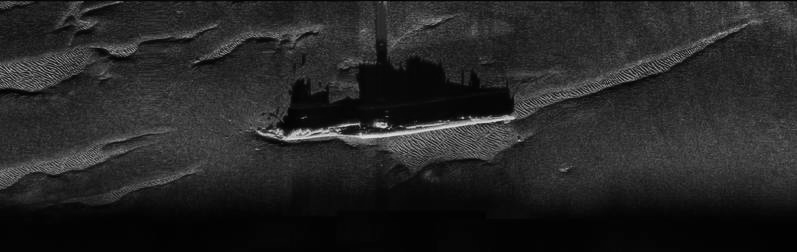ship: (255, 96, 518, 146)
